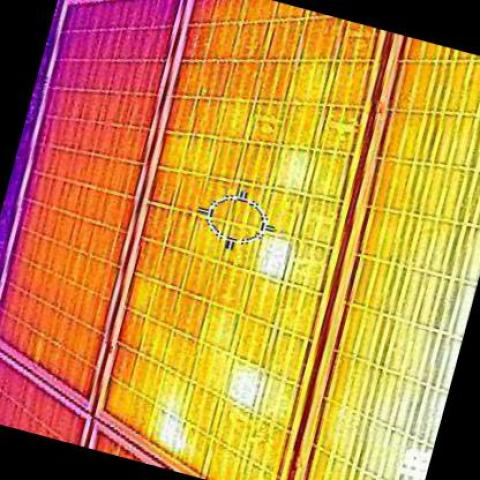fault: (258, 237, 296, 274), (158, 406, 192, 442), (228, 376, 260, 403)
